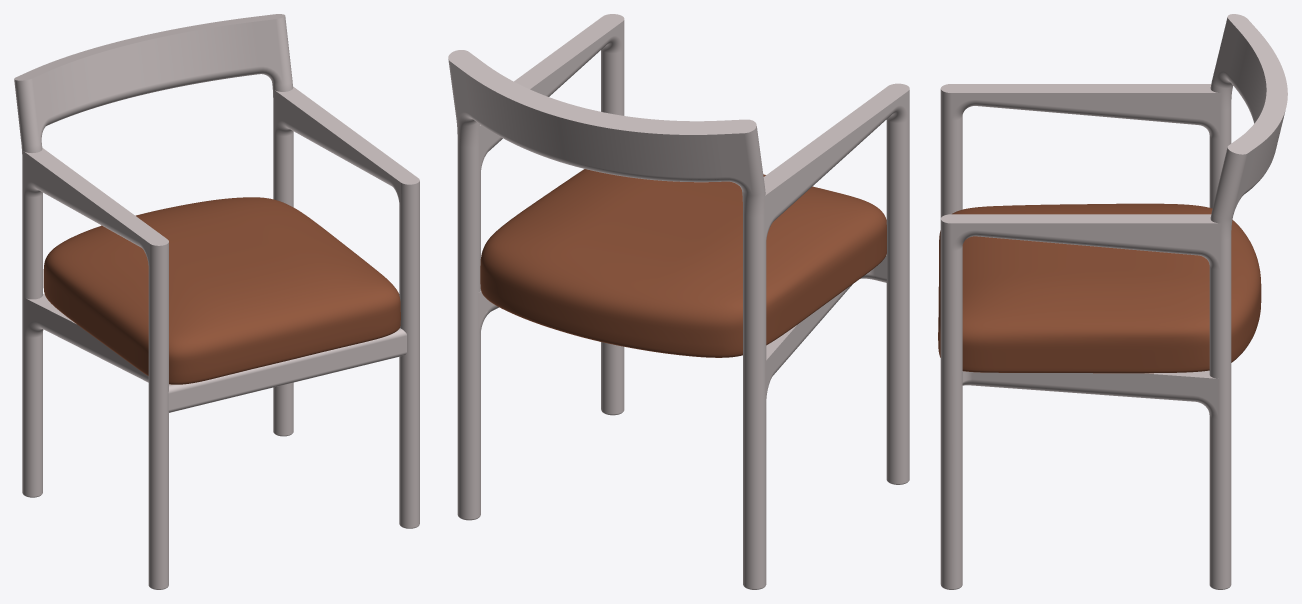
The model's file is orionchair.glb.
3 renders of one model, left to right at view 1: azimuth 30°, elevation 25°; view 2: azimuth 150°, elevation 25°; view 3: azimuth 270°, elevation 25°, orthographic. The views are drawn at different scales.
Parts seen in each view (by area): view 1: Mesh_0, Mesh_1, Mesh_11, Mesh_6, Mesh_2, Mesh_3, Mesh_12, Mesh_4, Mesh_5; view 2: Mesh_0, Mesh_1, Mesh_11, Mesh_12, Mesh_2, Mesh_4, Mesh_3, Mesh_5, Mesh_6; view 3: Mesh_0, Mesh_12, Mesh_3, Mesh_5, Mesh_4, Mesh_1, Mesh_6, Mesh_11, Mesh_2.
Boxes of the visible parts, left/top/right/bottom form: Mesh_0: left=43, top=197, right=400, bottom=384; Mesh_1: left=29, top=17, right=259, bottom=125; Mesh_11: left=14, top=71, right=50, bottom=497; Mesh_6: left=39, top=302, right=406, bottom=412; Mesh_2: left=137, top=230, right=168, bottom=589; Mesh_3: left=388, top=169, right=419, bottom=528; Mesh_12: left=252, top=14, right=300, bottom=436; Mesh_4: left=32, top=153, right=154, bottom=246; Mesh_5: left=283, top=92, right=405, bottom=185; Mesh_0: left=480, top=169, right=886, bottom=357; Mesh_1: left=464, top=63, right=726, bottom=182; Mesh_11: left=719, top=119, right=775, bottom=589; Mesh_12: left=448, top=50, right=494, bottom=520; Mesh_2: left=874, top=83, right=909, bottom=484; Mesh_4: left=763, top=96, right=894, bottom=219; Mesh_3: left=589, top=14, right=624, bottom=415; Mesh_5: left=489, top=27, right=609, bottom=150; Mesh_6: left=492, top=255, right=886, bottom=374; Mesh_0: left=938, top=203, right=1261, bottom=373; Mesh_12: left=1194, top=138, right=1257, bottom=589; Mesh_3: left=940, top=214, right=977, bottom=589; Mesh_5: left=976, top=214, right=1201, bottom=255; Mesh_4: left=976, top=84, right=1201, bottom=124; Mesh_1: left=1227, top=30, right=1287, bottom=193; Mesh_6: left=962, top=371, right=1195, bottom=401; Mesh_11: left=1198, top=14, right=1257, bottom=208; Mesh_2: left=940, top=84, right=977, bottom=218.
Bounding box in the file's own units: 0.53 × 0.7767 × 0.5612.
